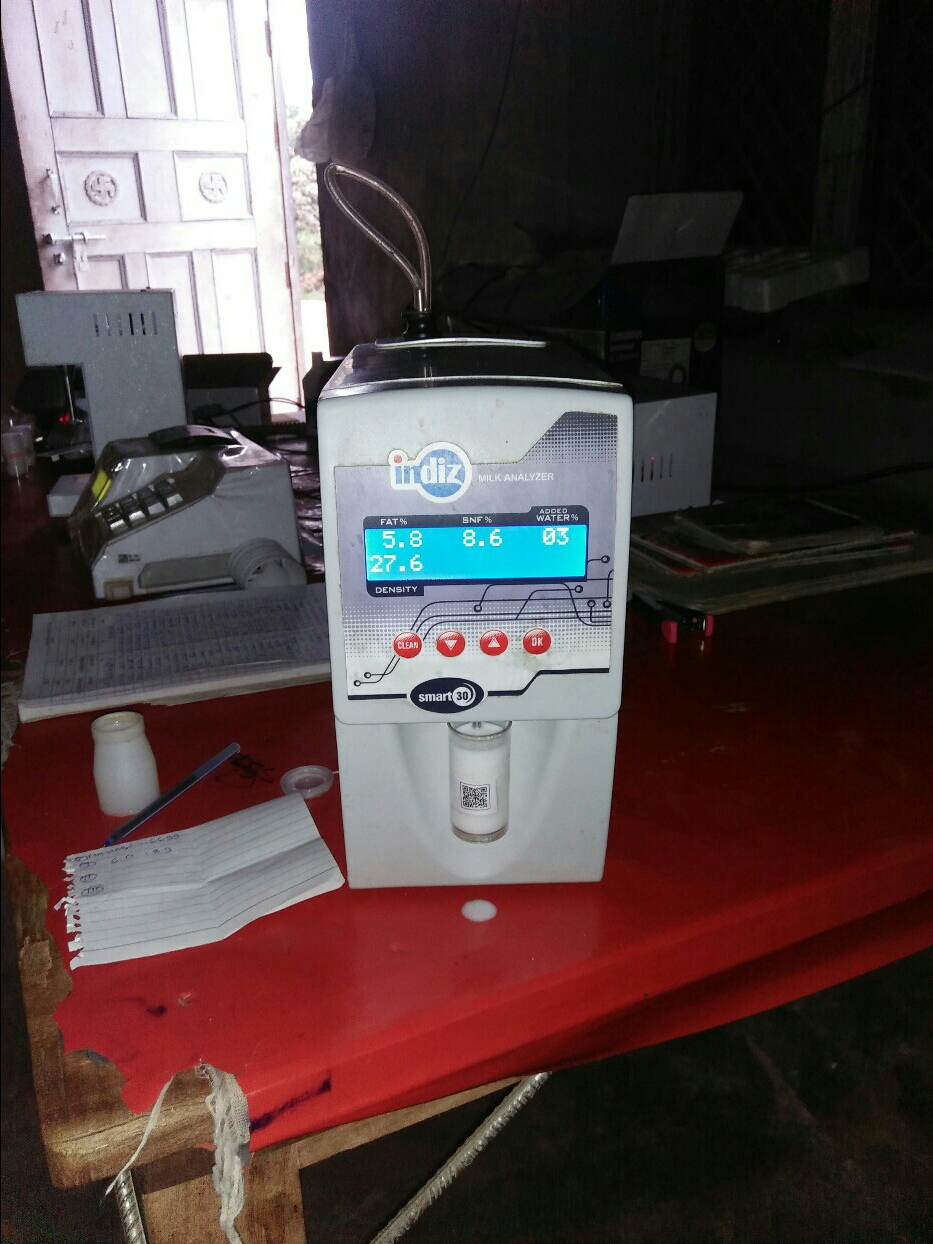lcd: (352, 512, 597, 597)
qr: (454, 772, 499, 820)
